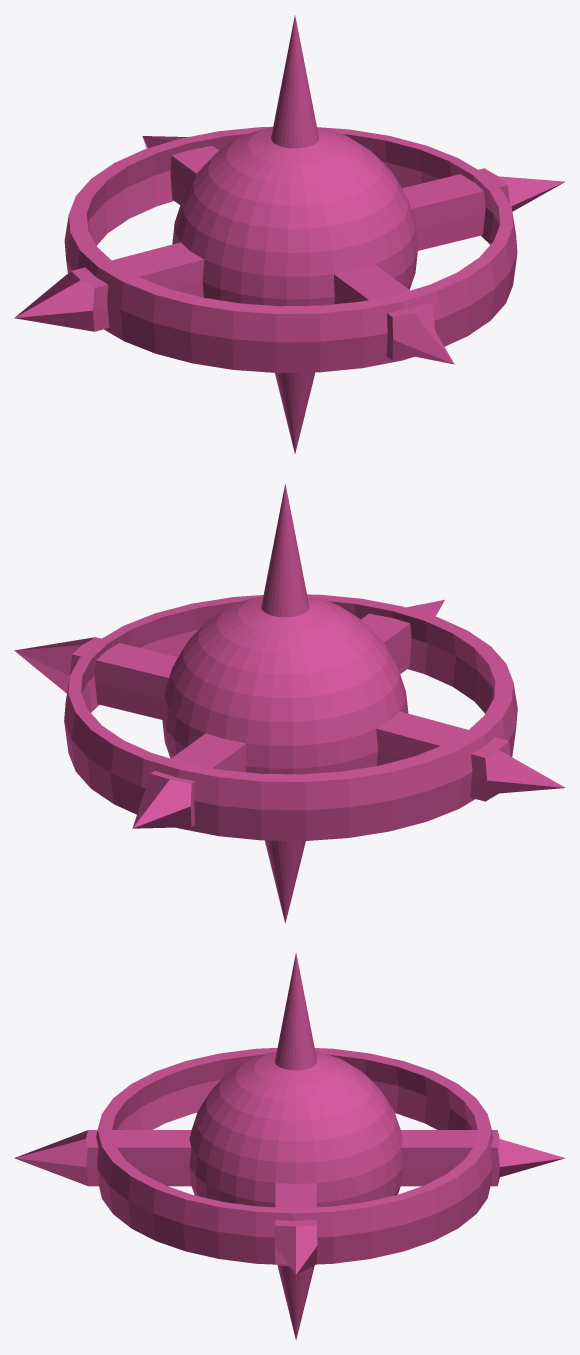
The model's file is enemy3.1.fbx.
3 views of the same model, one above another, from view 1: azimuth 30°, elevation 25°; view 2: azimuth 150°, elevation 25°; view 3: azimuth 270°, elevation 25° (orthographic). The views are drawn at different scales.
Visible parts, largest first — view 1: demonion; view 2: demonion; view 3: demonion.
Part boxes in pixels (<box>): demonion: <box>14,15,565,453</box>; demonion: <box>14,484,565,922</box>; demonion: <box>14,952,565,1340</box>.
Size of the model in its own units: 1197 by 913 by 1175.
